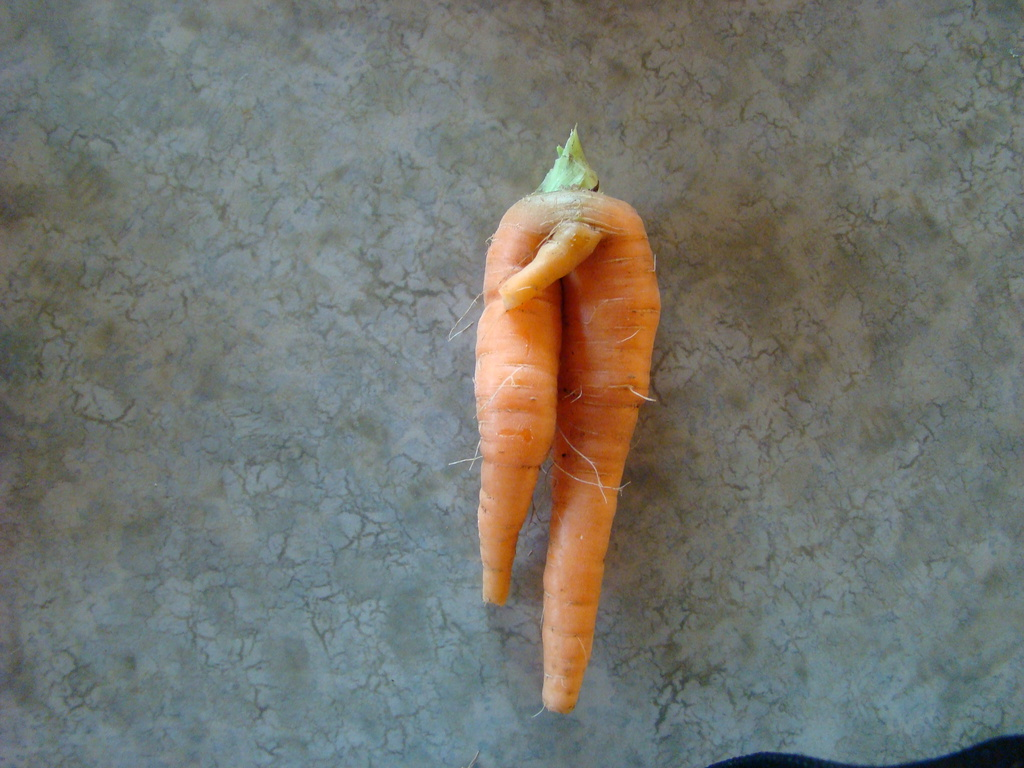Carrot: (447, 124, 660, 723)
